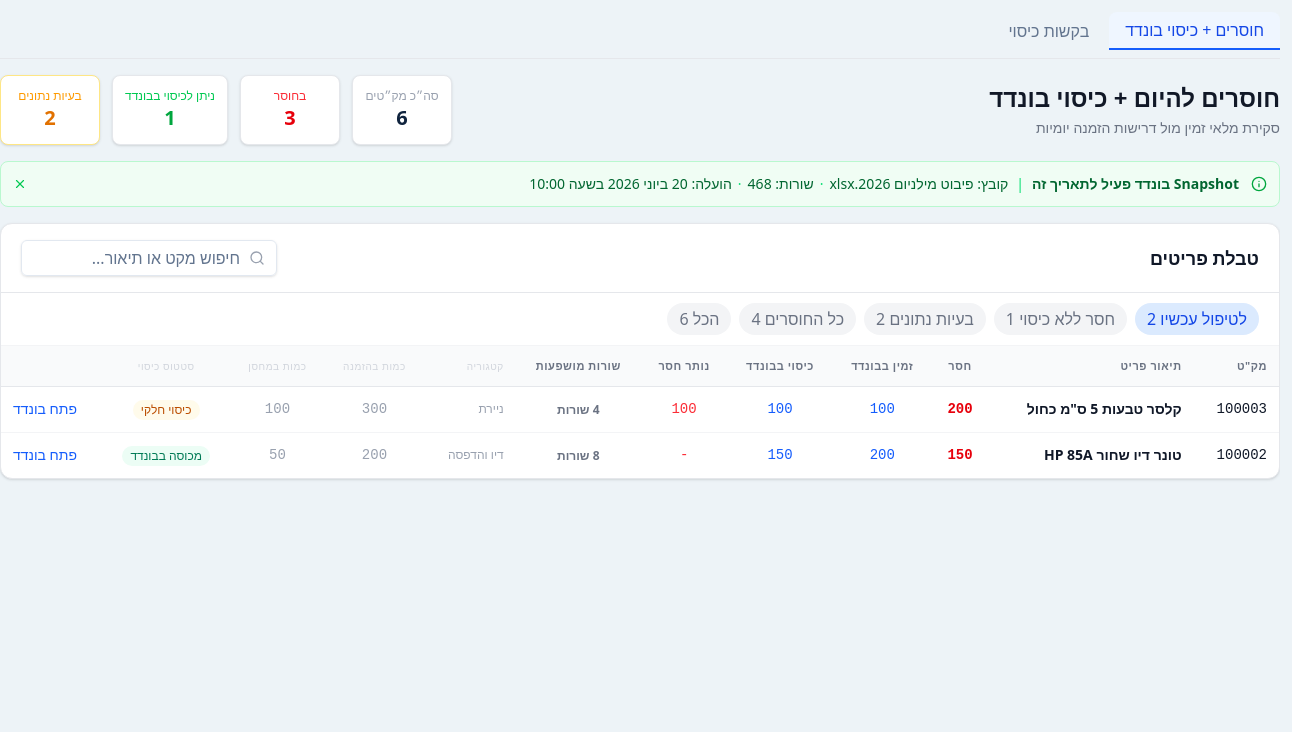
ProductControlTab › highlights data_issue row when filtering by data issues
This screenshot has width=1292, height=732.
Check: the text "100002" is shown, box [1194, 432, 1279, 478]
Click the button "בעיות נתונים 2": (925, 319) [864, 303, 986, 335]
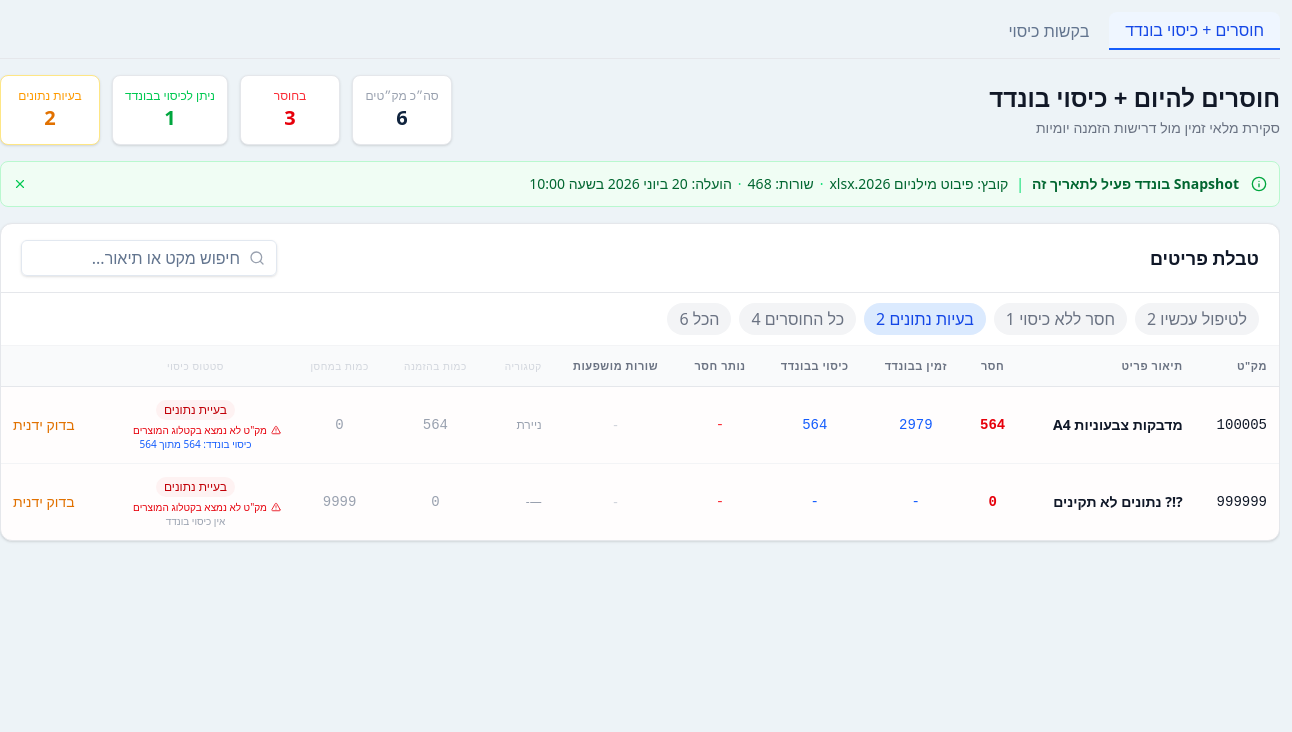
Check: the text "999999" is shown, box [1195, 463, 1279, 540]
Check: the text "?!? נתונים לא תקינים" is shown, box [1020, 463, 1195, 540]
